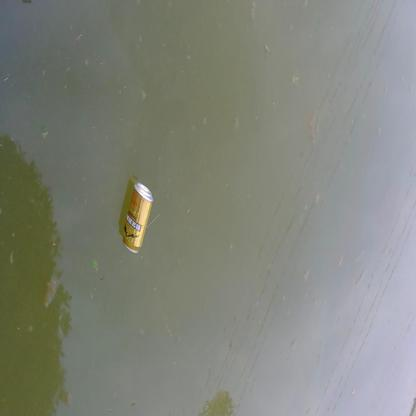can: (121, 182, 155, 255)
